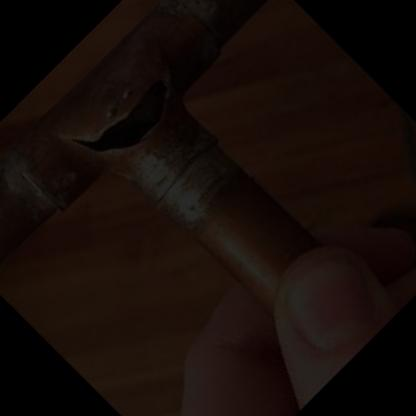burst: (73, 58, 179, 168)
